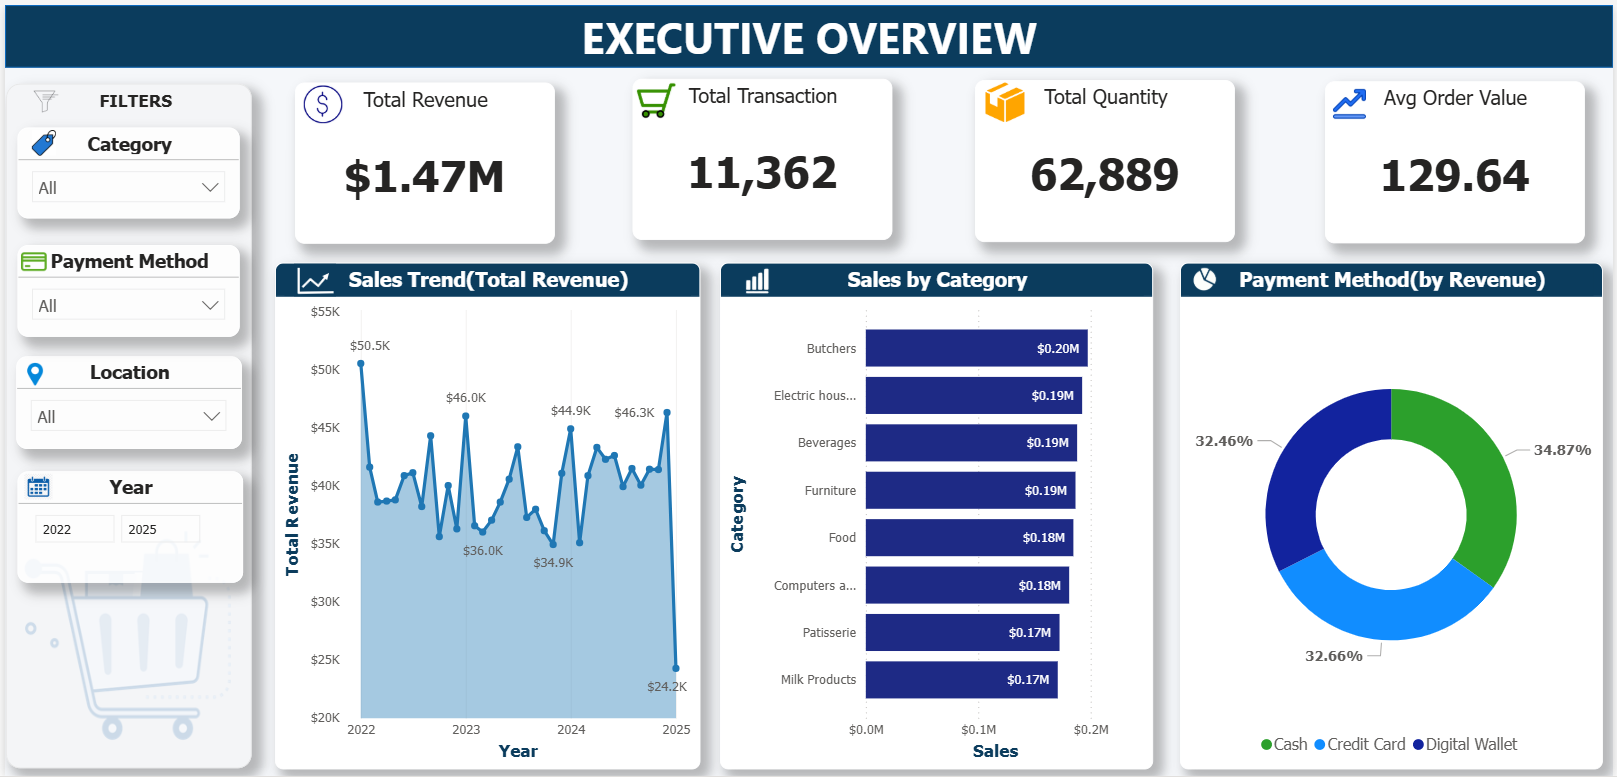

This screenshot's page, from the dashboard's own definition file:
{"tool":"powerbi","page":{"name":"EXECUTIVE OVERVIEW","canvas":[1500,720],"ordinal":0},"visuals":[{"type":"shape","box":[0,0,1500,58.6],"z":0},{"type":"card","title":"Total Revenue","fields":{"Values":["sales_cleaned.Total Revenue"]},"box":[270,72.9,242,150],"z":0,"group":"g3"},{"type":"image","box":[1.2,73.8,228.8,638.8],"z":2000},{"type":"card","title":"Total Transaction","fields":{"Values":["sales_cleaned.Total Transactions"]},"box":[585.7,68.6,242,150],"z":3000},{"type":"slicer","title":"Category","fields":{"Values":["sales_cleaned.Category"]},"box":[11.2,114.3,207.5,85],"z":3000,"group":"g10"},{"type":"image","box":[584.3,67.1,41.4,42.9],"z":4000},{"type":"slicer","title":"Payment Method","fields":{"Values":["sales_cleaned.Payment Method"]},"box":[11.3,224.3,207.5,85.3],"z":4000,"group":"g9"},{"type":"group","id":"g1","title":"Group 1","box":[1231.4,71.4,242,150],"z":5000},{"type":"slicer","title":"Location","fields":{"Values":["sales_cleaned.Location"]},"box":[10.7,327.1,210,86.2],"z":5000,"group":"g8"},{"type":"group","id":"g2","title":"Group 2","box":[904.3,70,242,150],"z":6000},{"type":"slicer","title":"Year","fields":{"Values":["sales_cleaned.Transaction Date.Variation.Date Hierarchy.Year"]},"box":[11.2,434.3,210,103.8],"z":6000,"group":"g7"},{"type":"group","id":"g3","title":"Group 3","box":[270,72.9,242,150],"z":7000},{"type":"textbox","box":[7.1,75.2,230,42.5],"z":7000,"group":"g11"},{"type":"image","box":[10.7,66.7,55.7,47.1],"z":8000,"group":"g11"},{"type":"group","id":"g4","title":"Group 4","box":[251.4,240,397.1,472.9],"z":8000},{"type":"image","box":[18.7,116.8,35,23.8],"z":9000,"group":"g10"},{"type":"group","id":"g5","title":"Group 5","box":[667.1,240,404.3,472.9],"z":9000},{"type":"image","box":[8.8,227.5,35,23.8],"z":10000,"group":"g9"},{"type":"group","id":"g6","title":"Group 6","box":[1095.7,240,394.3,472.9],"z":10000},{"type":"image","box":[11.2,331.3,35,23.8],"z":11000,"group":"g8"},{"type":"group","id":"g7","title":"Group 7","box":[11.2,434.3,210,103.8],"z":11000},{"type":"group","id":"g8","title":"Group 8","box":[10.7,327.1,210,86.2],"z":12000},{"type":"image","box":[13.7,436.2,35,23.8],"z":12000,"group":"g7"},{"type":"group","id":"g9","title":"Group 9","box":[8.8,224.3,210,85.3],"z":13000},{"type":"image","box":[278.6,74.3,35.7,38.6],"z":14000,"group":"g3"},{"type":"group","id":"g10","title":"Group 10","box":[11.2,114.3,207.5,85],"z":14000},{"type":"group","id":"g11","title":"Group 11","box":[7.1,66.7,230,51],"z":15000},{"type":"areaChart","title":"Sales Trend(Total Revenue)","fields":{"Category":["sales_cleaned.Transaction Date.Variation.Date Hierarchy.Year","sales_cleaned.Transaction Date.Variation.Date Hierarchy.Month"],"Y":["sales_cleaned.Total Revenue"]},"box":[251.4,240,397.1,472.9],"z":15000,"group":"g4"},{"type":"barChart","title":"Sales by Category","fields":{"Y":["Sum(sales_cleaned.Total_Sales)"],"Category":["sales_cleaned.Category"]},"box":[667.1,240,404.3,472.9],"z":16000,"group":"g5"},{"type":"card","title":"Total Quantity","fields":{"Values":["sales_cleaned.Total Quantity"]},"box":[904.3,70,242.7,150.9],"z":17000,"group":"g2"},{"type":"donutChart","title":"Payment Method(by Revenue)","fields":{"Category":["sales_cleaned.Payment Method"],"Y":["sales_cleaned.Total Revenue"]},"box":[1095.7,240,394.3,472.9],"z":17000,"group":"g6"},{"type":"card","title":"Avg Order Value","fields":{"Values":["sales_cleaned.Avg Order Value"]},"box":[1231.4,71.4,242,150.9],"z":18000,"group":"g1"},{"type":"image","box":[908.5,72.5,46.6,36.8],"z":19000,"group":"g2"},{"type":"image","box":[1231.4,76.3,45.4,33.1],"z":20000,"group":"g1"},{"type":"image","box":[268.5,241.4,40,30],"z":20001,"group":"g4"},{"type":"image","box":[682.8,240,38.6,34.3],"z":20002,"group":"g5"},{"type":"image","box":[1100,241.4,37.1,28.6],"z":20005,"group":"g6"}]}

Visuals, with their boxes in screenshot pixels (x1, y1, x2, y2), scaled from the page's 1500x720 canvas onto the 1617x777 screenshot:
shape: <bbox>0, 0, 1616, 63</bbox>
"Total Revenue" card: <bbox>291, 79, 552, 241</bbox>
image: <bbox>1, 80, 248, 769</bbox>
"Total Transaction" card: <bbox>631, 74, 892, 236</bbox>
"Category" slicer: <bbox>12, 123, 236, 215</bbox>
image: <bbox>630, 72, 675, 119</bbox>
"Payment Method" slicer: <bbox>12, 242, 236, 334</bbox>
"Group 1" group: <bbox>1327, 77, 1588, 239</bbox>
"Location" slicer: <bbox>12, 353, 238, 446</bbox>
"Group 2" group: <bbox>975, 76, 1236, 237</bbox>
"Year" slicer: <bbox>12, 469, 238, 581</bbox>
"Group 3" group: <bbox>291, 79, 552, 241</bbox>
textbox: <bbox>8, 81, 256, 127</bbox>
image: <bbox>12, 72, 72, 123</bbox>
"Group 4" group: <bbox>271, 259, 699, 769</bbox>
image: <bbox>20, 126, 58, 152</bbox>
"Group 5" group: <bbox>719, 259, 1155, 769</bbox>
image: <bbox>9, 246, 47, 271</bbox>
"Group 6" group: <bbox>1181, 259, 1606, 769</bbox>
image: <bbox>12, 358, 50, 383</bbox>
"Group 7" group: <bbox>12, 469, 238, 581</bbox>
"Group 8" group: <bbox>12, 353, 238, 446</bbox>
image: <bbox>15, 471, 52, 496</bbox>
"Group 9" group: <bbox>9, 242, 236, 334</bbox>
image: <bbox>300, 80, 339, 122</bbox>
"Group 10" group: <bbox>12, 123, 236, 215</bbox>
"Group 11" group: <bbox>8, 72, 256, 127</bbox>
"Sales Trend(Total Revenue)" areaChart: <bbox>271, 259, 699, 769</bbox>
"Sales by Category" barChart: <bbox>719, 259, 1155, 769</bbox>
"Total Quantity" card: <bbox>975, 76, 1236, 238</bbox>
"Payment Method(by Revenue)" donutChart: <bbox>1181, 259, 1606, 769</bbox>
"Avg Order Value" card: <bbox>1327, 77, 1588, 240</bbox>
image: <bbox>979, 78, 1030, 118</bbox>
image: <bbox>1327, 82, 1376, 118</bbox>
image: <bbox>289, 261, 333, 293</bbox>
image: <bbox>736, 259, 778, 296</bbox>
image: <bbox>1186, 261, 1226, 291</bbox>
